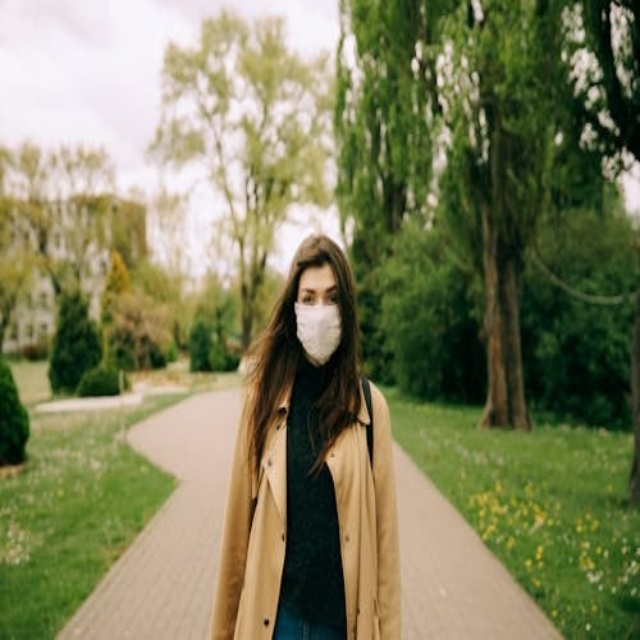Mascara: (294, 301, 343, 365)
Sin_gafas: (297, 273, 338, 311)
